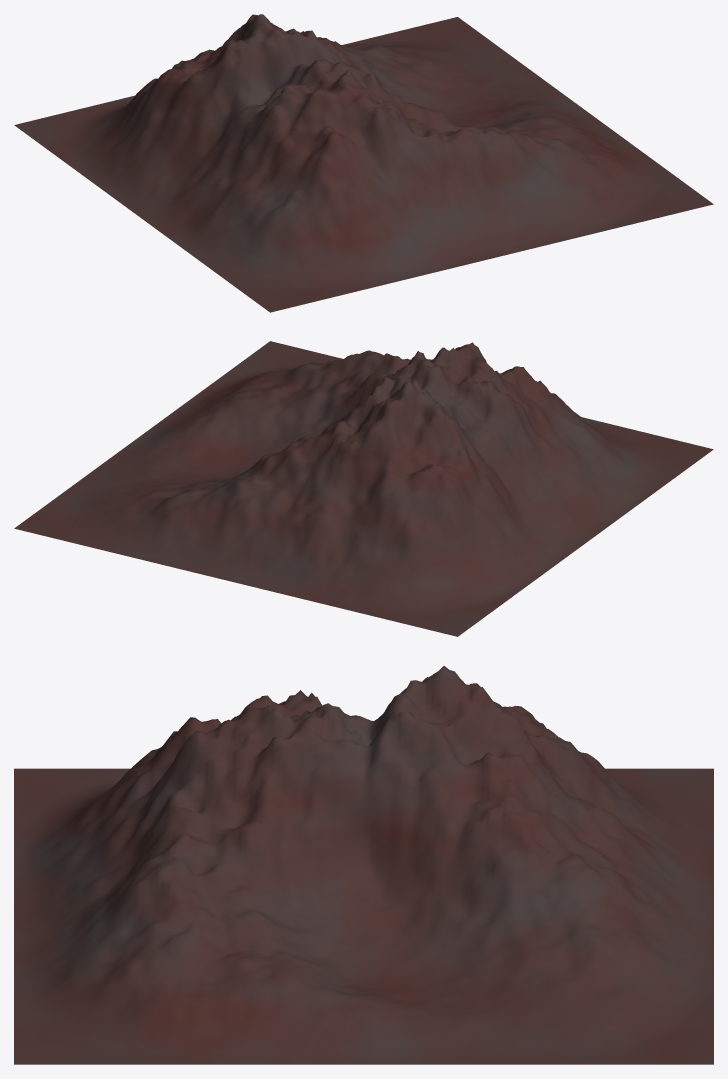
File: deadHill.fbx
The picture shows the model from 3 angles, top to bottom: view 1: azimuth 30°, elevation 25°; view 2: azimuth 150°, elevation 25°; view 3: azimuth 270°, elevation 25°; orthographic projection. The views are drawn at different scales.
Visible parts, largest first — view 1: Landscape; view 2: Landscape; view 3: Landscape.
Part boxes in pixels (box(x1,y1,x2,y2)): Landscape: box(14, 14, 713, 312); Landscape: box(14, 341, 713, 636); Landscape: box(14, 666, 713, 1064).
Bounding box in the file's own units: 200 × 63.38 × 200.
